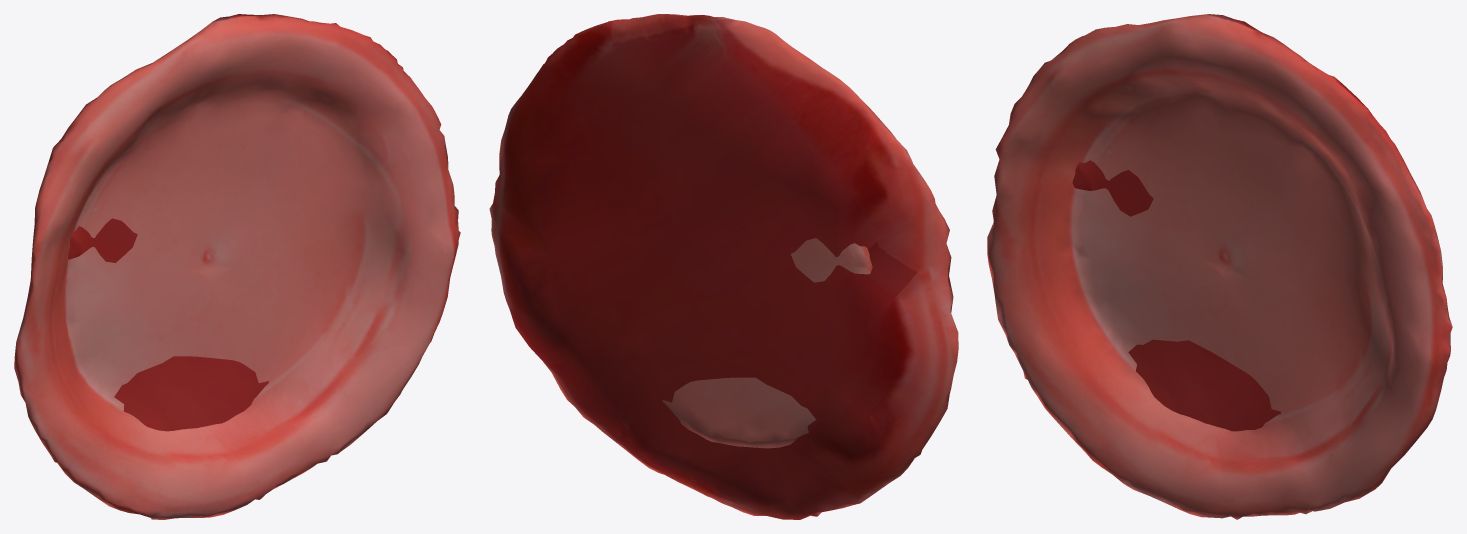
File: red_plate_big.obj
The picture shows the model from 3 angles, left to right: view 1: azimuth 30°, elevation 25°; view 2: azimuth 150°, elevation 25°; view 3: azimuth 330°, elevation 25°; orthographic projection. The views are drawn at different scales.
Visible parts, largest first — view 1: obj1; view 2: obj1; view 3: obj1.
Part boxes in pixels (<box>): obj1: <box>14,14,460,519</box>; obj1: <box>489,14,958,519</box>; obj1: <box>987,14,1452,519</box>.
Size of the model in its own units: 0.1208 by 0.1248 by 0.0145.
1 material, 1 textured.
